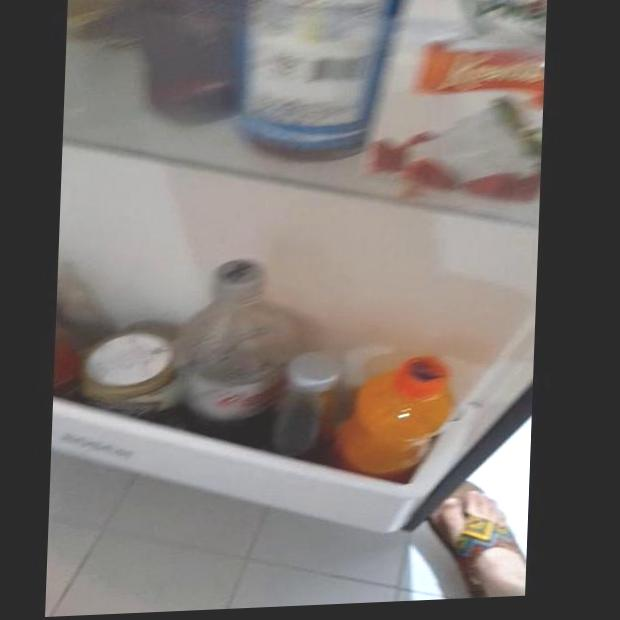cream: (386, 0, 551, 185)
